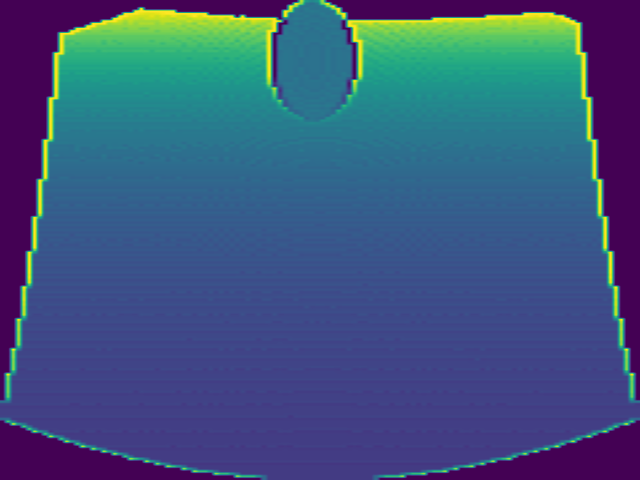sphere: (265, 1, 361, 122)
